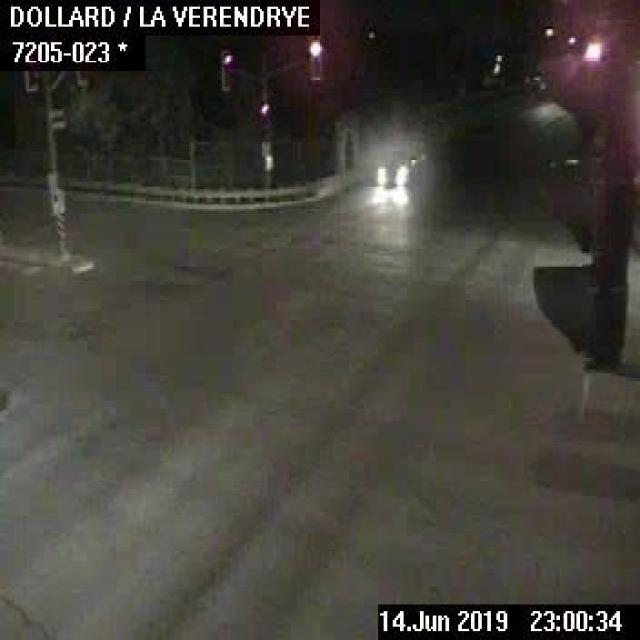vehicle: (371, 148, 429, 190)
